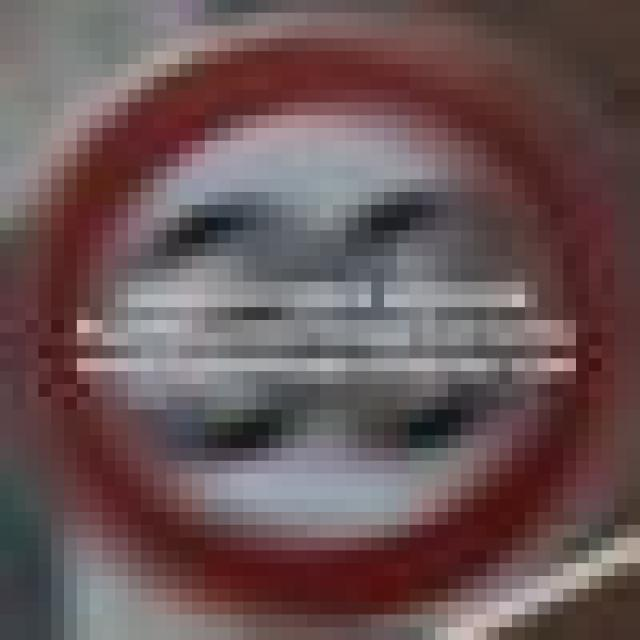SPEED_LIMIT_30: (12, 12, 602, 602)
